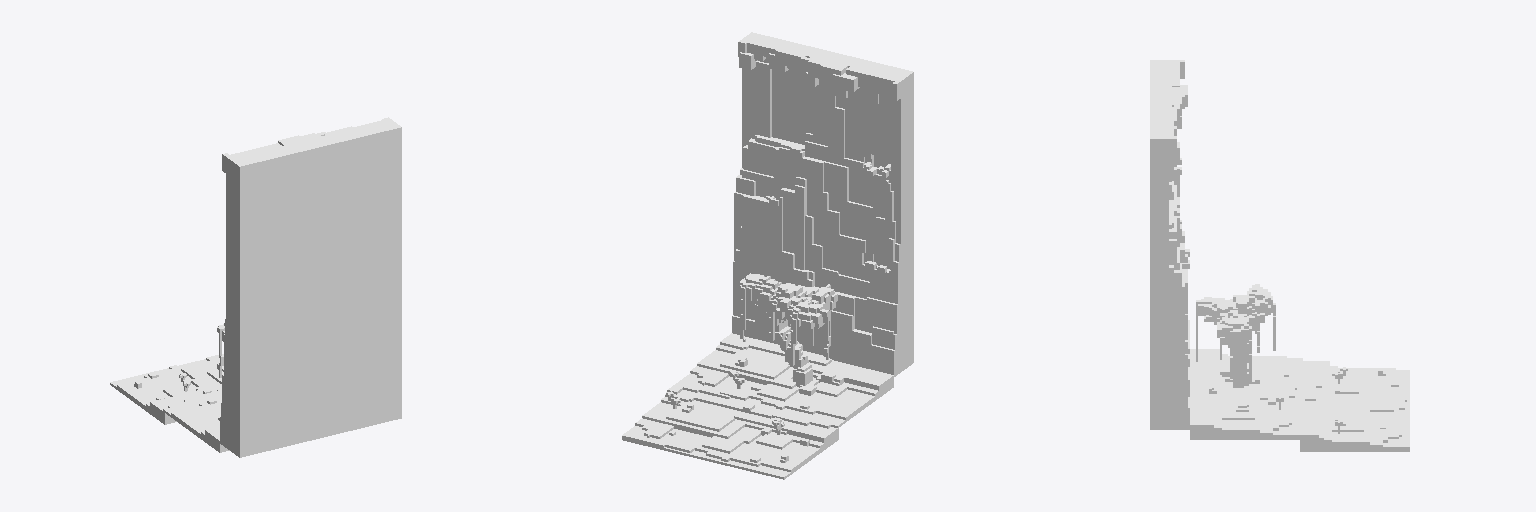
Rendered from meadow_with_tree.obj.
The picture shows the model from 3 angles: view 1: azimuth 30°, elevation 25°; view 2: azimuth 150°, elevation 25°; view 3: azimuth 270°, elevation 25°; orthographic projection.
Parts seen in each view (by area): view 1: object 1; view 2: object 1; view 3: object 1.
Part boxes in pixels (x1,y1,x2,y2): object 1: (110,117,401,457); object 1: (622,32,913,479); object 1: (1150,60,1409,451).
Bounding box in the file's own units: 7 × 12.9 × 9.7.